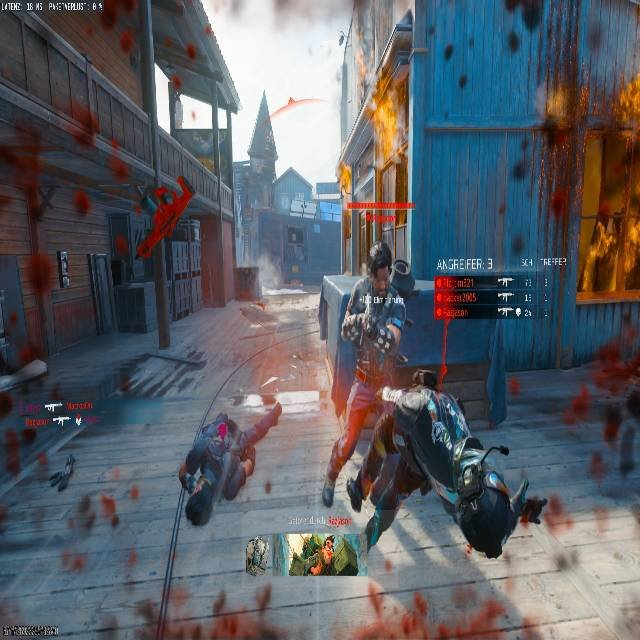head: (457, 483, 521, 558), (229, 392, 282, 445), (367, 240, 392, 282)
player: (330, 240, 415, 511), (357, 236, 415, 383)
